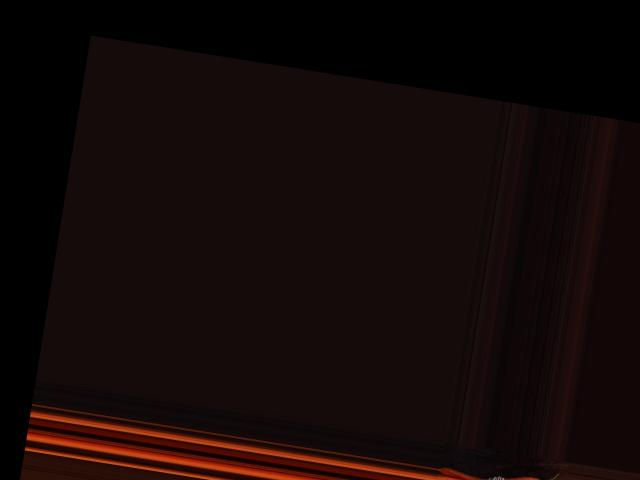carrot: (438, 459, 552, 480)
